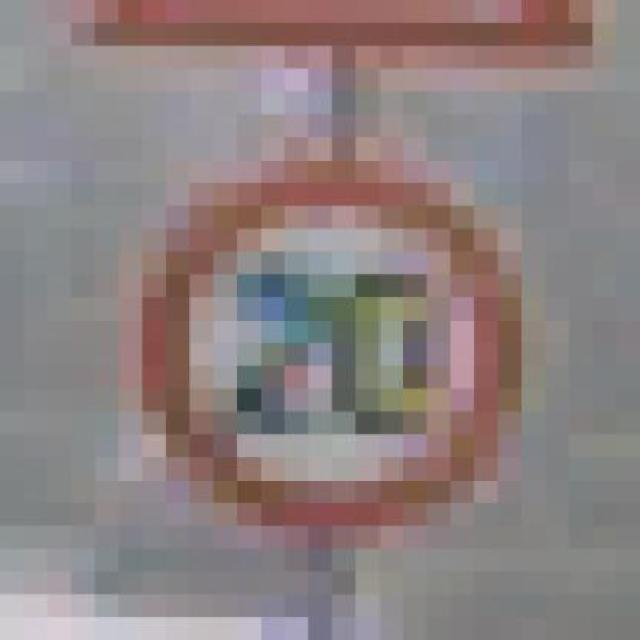Speed Limit 20 KMPh: (118, 114, 592, 572)
